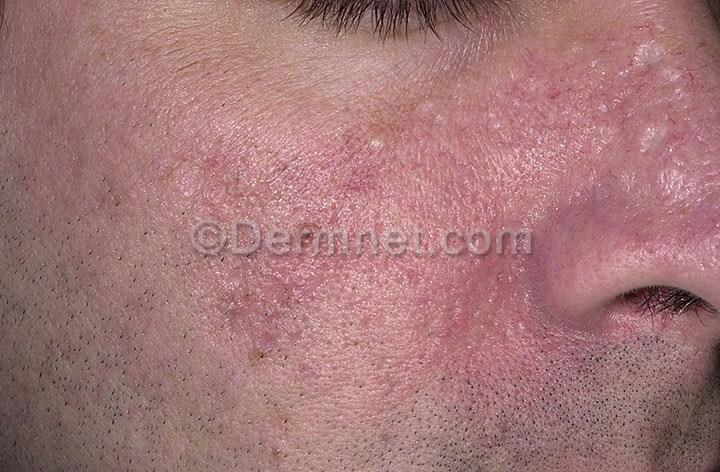Acne: (572, 76, 674, 178), (621, 126, 698, 240), (502, 68, 611, 132), (543, 32, 618, 93), (292, 213, 350, 280), (623, 19, 688, 78), (335, 122, 407, 170), (412, 80, 459, 144), (479, 93, 514, 164)
